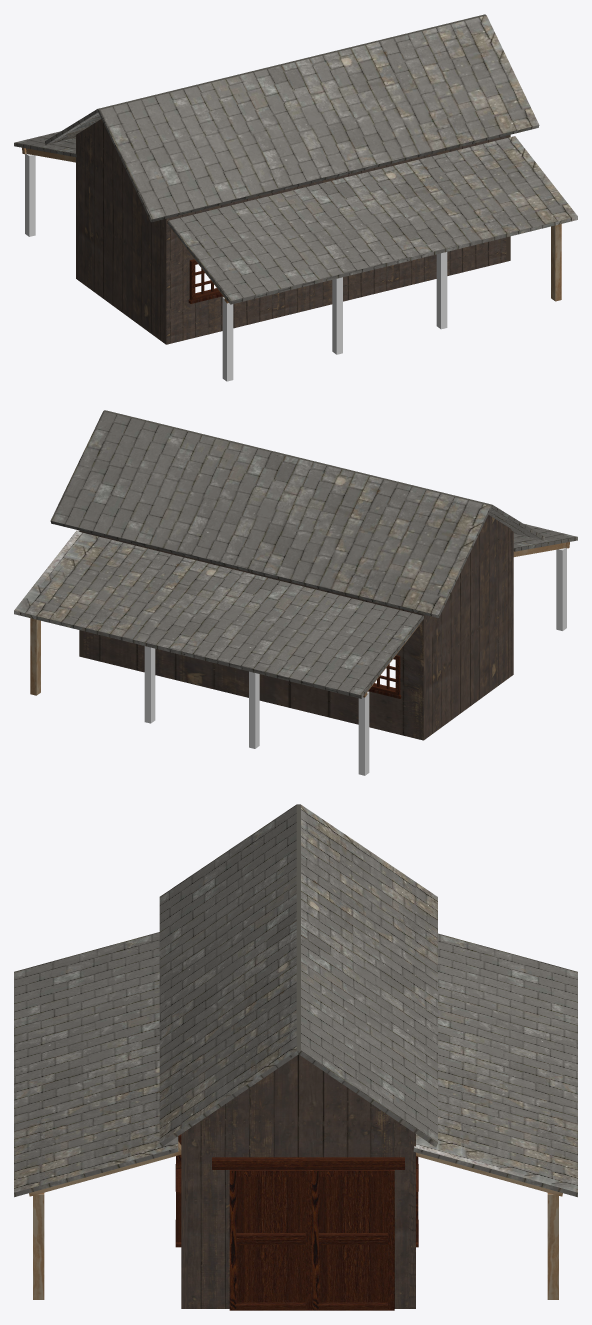
The model's file is SM_Bld_Barn_01.fbx.
3 views of the same model, one above another, from view 1: azimuth 30°, elevation 25°; view 2: azimuth 150°, elevation 25°; view 3: azimuth 270°, elevation 25° (orthographic). The views are drawn at different scales.
Parts seen in each view (by area): view 1: Side Roof.002, Side Roof.001, Plane, Post.007, Post.005, Post.003, Post.004, Post.006, Side Roof, Small Window.006; view 2: Side Roof.002, Side Roof, Plane, Post.003, Post.001, Post.007, Side Roof.001, Post, Post.002, Small Window.007; view 3: Side Roof.002, Side Roof.001, Side Roof, Plane, Door, Door.001, Cube.001, Post, Post.004, Ridge Support.001, Ridge Support.
Boxes of the visible parts, x1=… form: Side Roof.002: x1=45, y1=14, x2=539, y2=222; Side Roof.001: x1=167, y1=136, x2=577, y2=304; Plane: x1=76, y1=119, x2=510, y2=344; Post.007: x1=222, y1=297, x2=233, y2=381; Post.005: x1=436, y1=252, x2=447, y2=329; Post.003: x1=25, y1=154, x2=35, y2=236; Post.004: x1=551, y1=224, x2=561, y2=301; Post.006: x1=332, y1=277, x2=342, y2=354; Side Roof: x1=14, y1=131, x2=76, y2=157; Small Window.006: x1=188, y1=259, x2=222, y2=303; Side Roof.002: x1=50, y1=410, x2=544, y2=617; Side Roof: x1=14, y1=530, x2=424, y2=698; Plane: x1=79, y1=515, x2=513, y2=740; Post.003: x1=358, y1=691, x2=369, y2=775; Post.001: x1=144, y1=646, x2=155, y2=723; Post.007: x1=556, y1=548, x2=566, y2=630; Side Roof.001: x1=513, y1=524, x2=577, y2=551; Post: x1=30, y1=618, x2=40, y2=695; Post.002: x1=249, y1=671, x2=259, y2=748; Small Window.007: x1=368, y1=655, x2=401, y2=698; Side Roof.002: x1=159, y1=804, x2=437, y2=1147; Side Roof.001: x1=14, y1=932, x2=178, y2=1197; Side Roof: x1=413, y1=933, x2=577, y2=1197; Plane: x1=181, y1=1054, x2=415, y2=1308; Door: x1=229, y1=1170, x2=312, y2=1310; Door.001: x1=312, y1=1170, x2=394, y2=1310; Cube.001: x1=212, y1=1157, x2=404, y2=1169; Post: x1=547, y1=1193, x2=558, y2=1299; Post.004: x1=33, y1=1193, x2=44, y2=1299; Ridge Support.001: x1=29, y1=1141, x2=181, y2=1196; Ridge Support: x1=416, y1=1152, x2=562, y2=1196.
Size of the model in its own units: 1329 by 681 by 1285.
